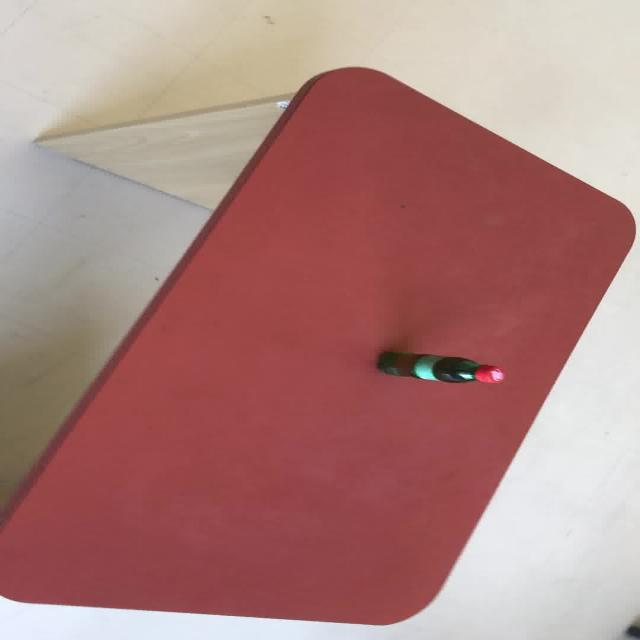guarana: (2, 65, 636, 625), (374, 349, 504, 384)
